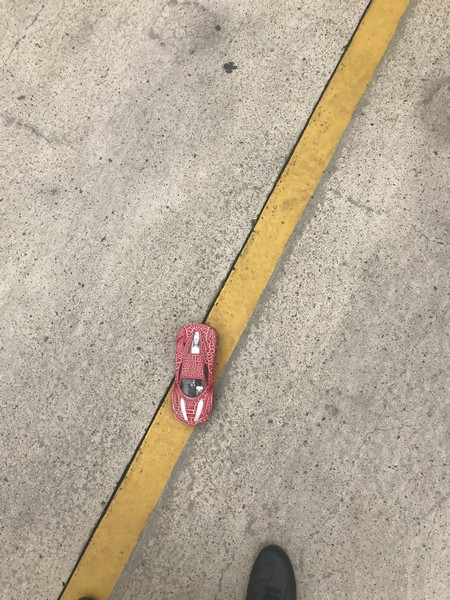RC: (171, 323, 216, 426)
